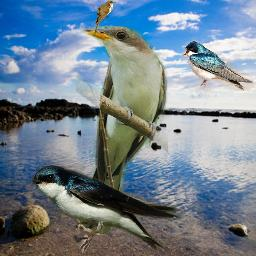Cuckoo: (76, 26, 168, 235), (94, 0, 116, 36)
Swallow: (30, 164, 185, 256), (181, 40, 254, 91)
